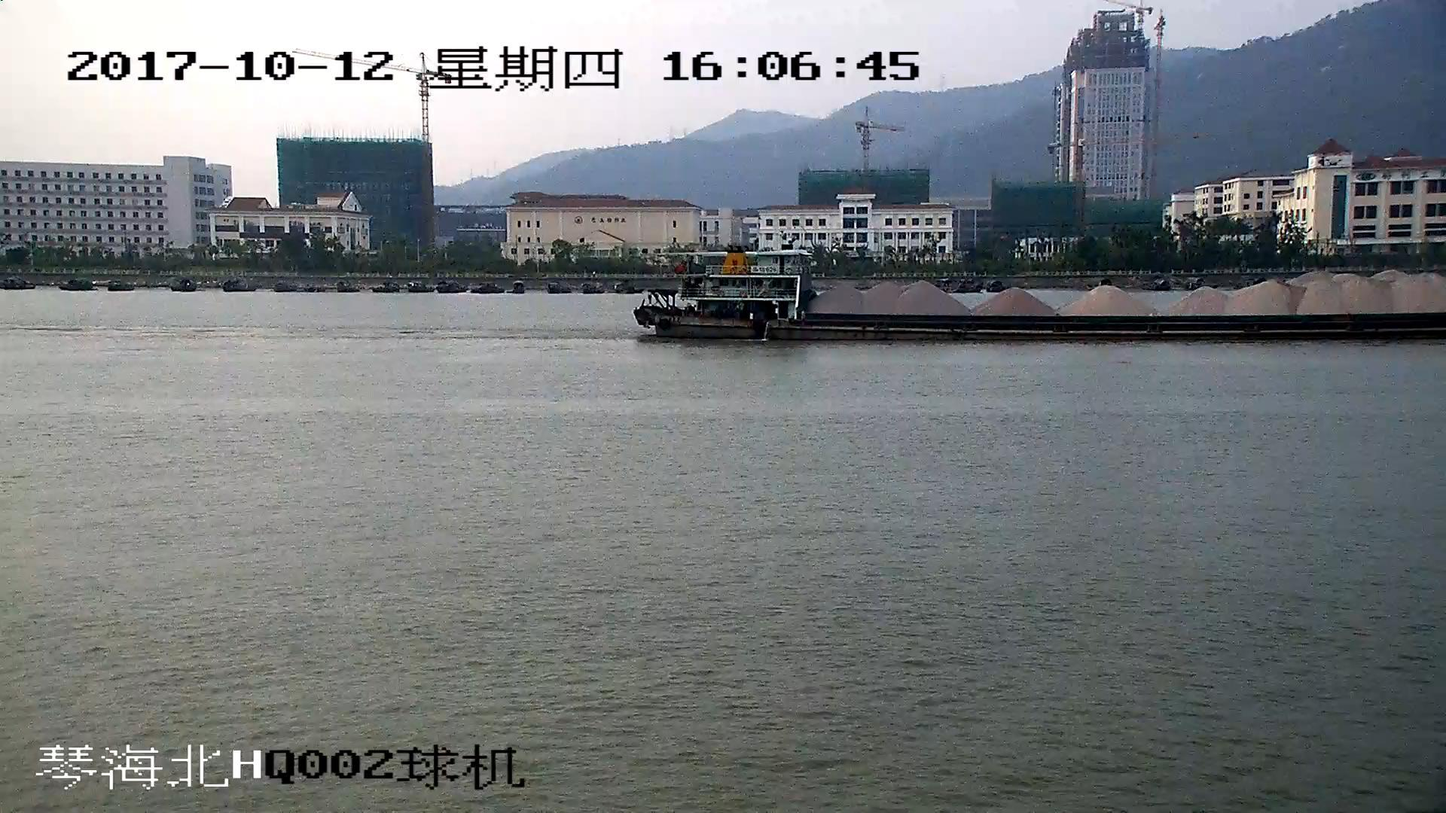ore carrier: (634, 247, 1445, 341)
